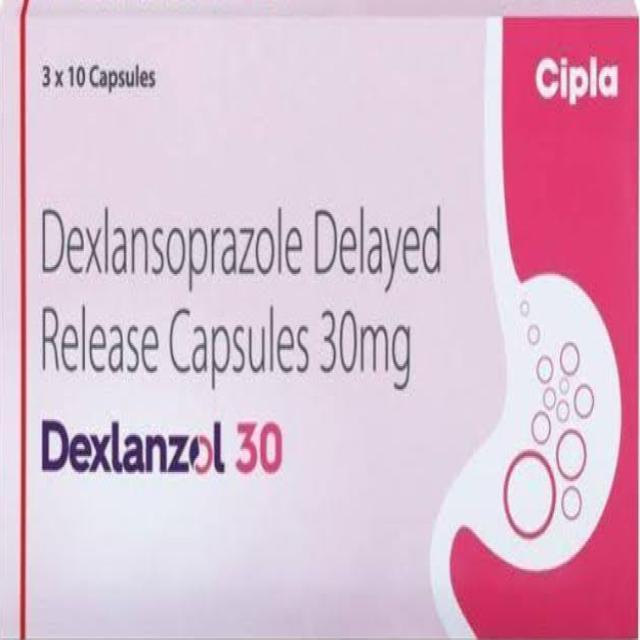drug-name: (39, 411, 284, 480)
